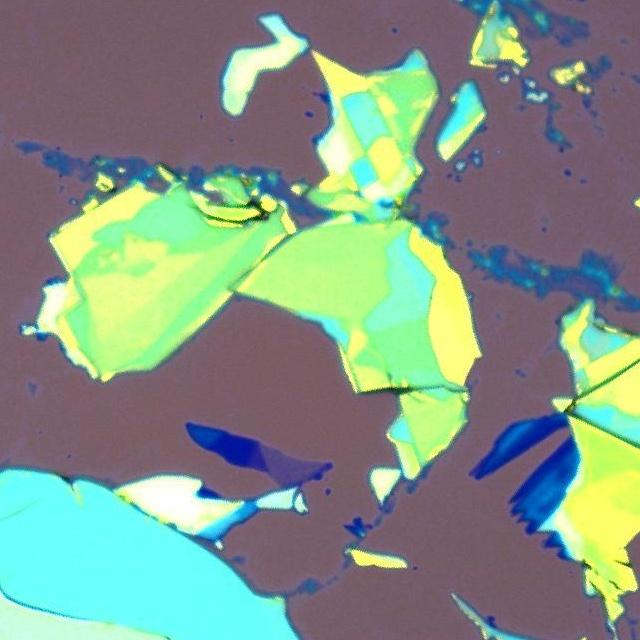monolayer-eWW4: (258, 441, 324, 488)
